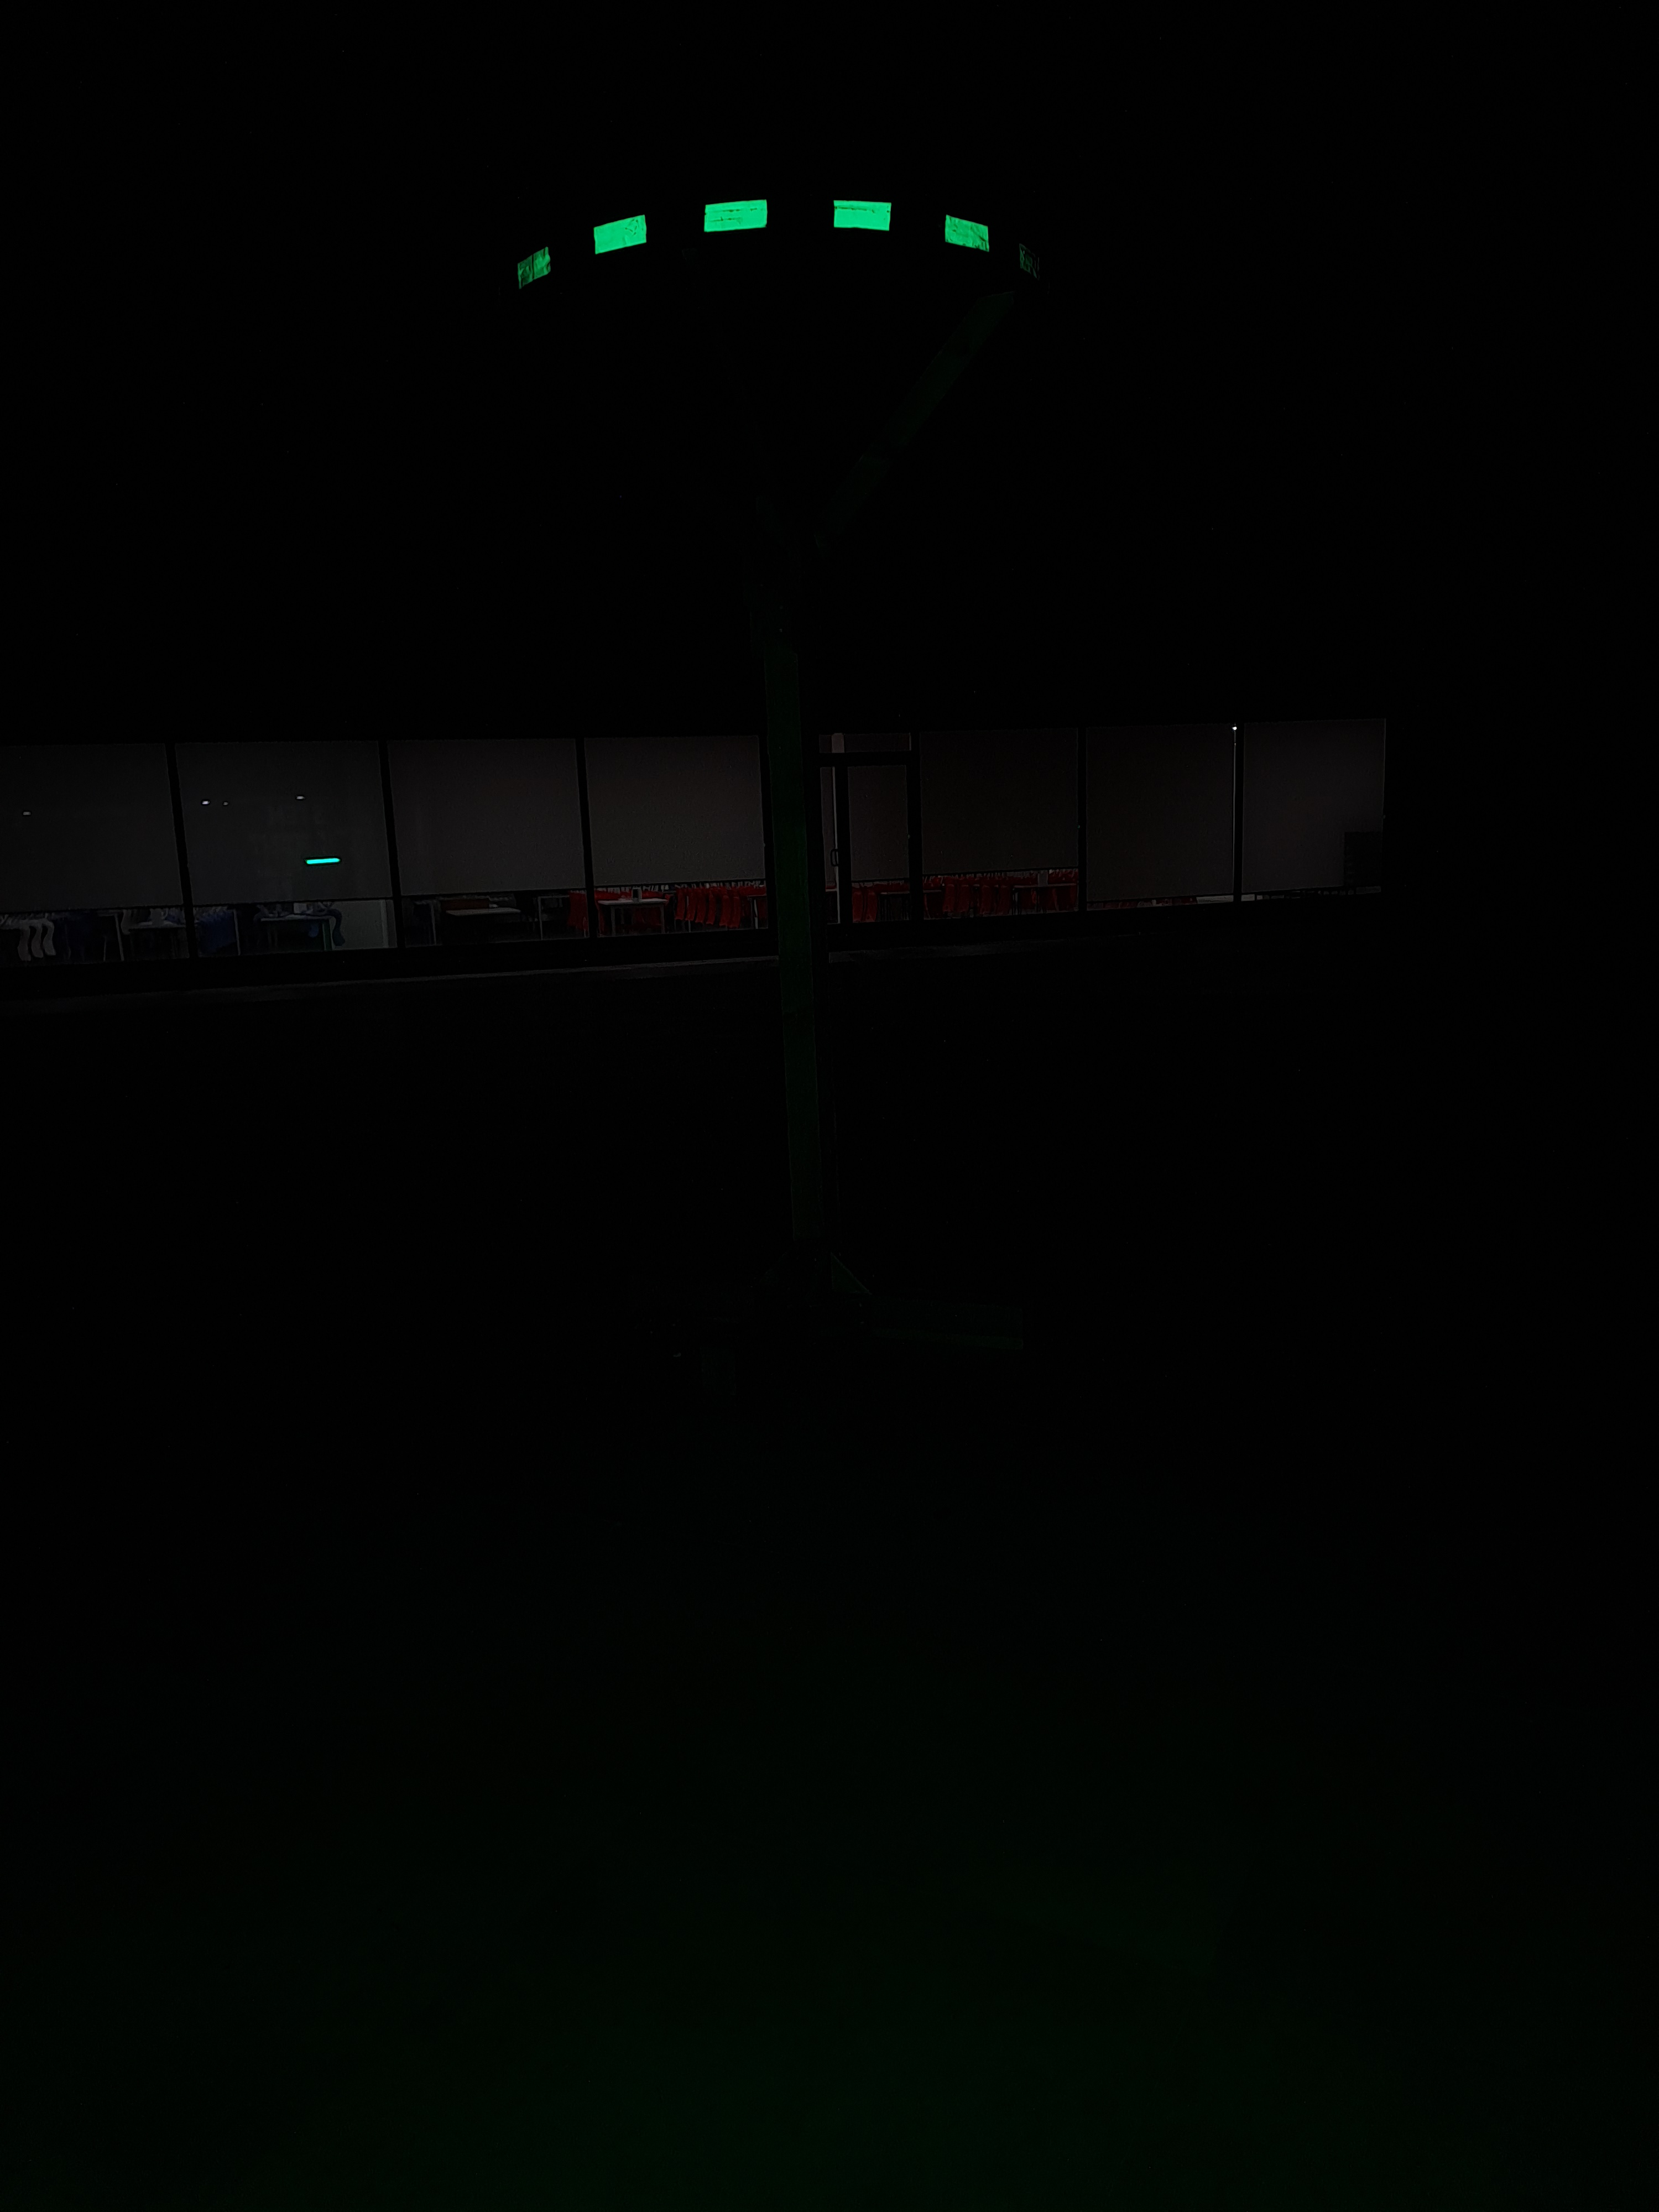hoop: (500, 197, 1046, 287)
